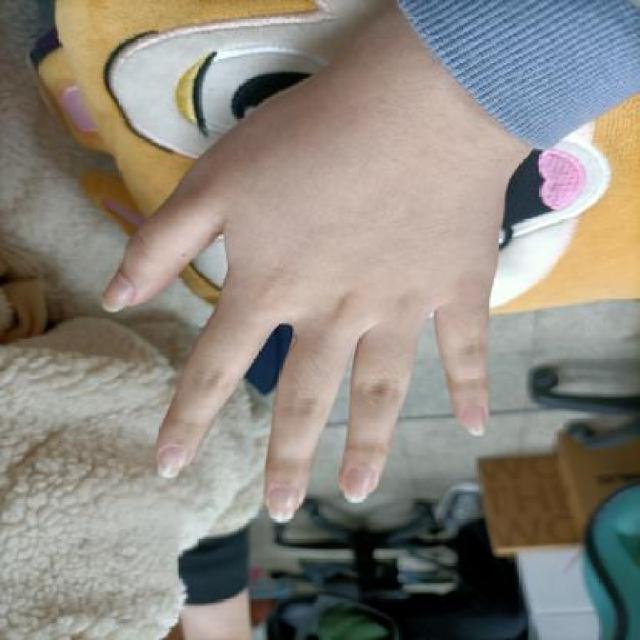bare_hand: (92, 18, 546, 540)
